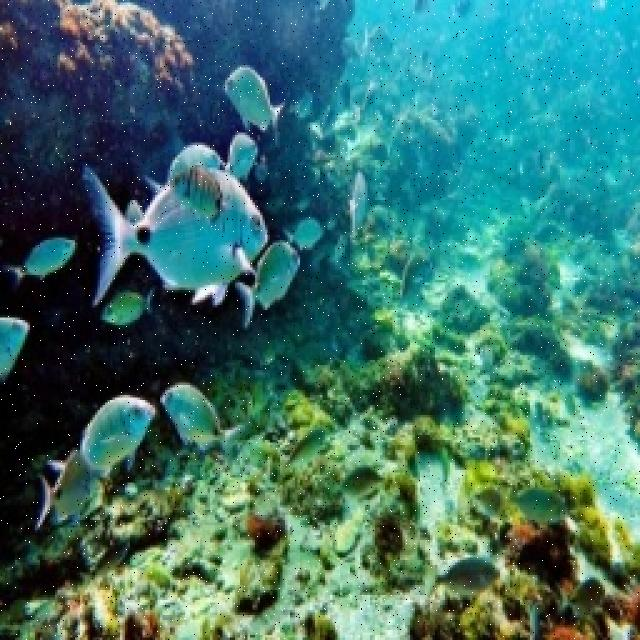fish: (80, 163, 271, 306), (49, 395, 159, 474), (160, 383, 250, 461), (234, 241, 304, 332), (32, 456, 96, 529), (224, 66, 291, 133), (1, 236, 78, 285), (423, 553, 503, 598), (99, 285, 159, 327), (0, 317, 30, 379)
sea-floor: (0, 0, 388, 575)
